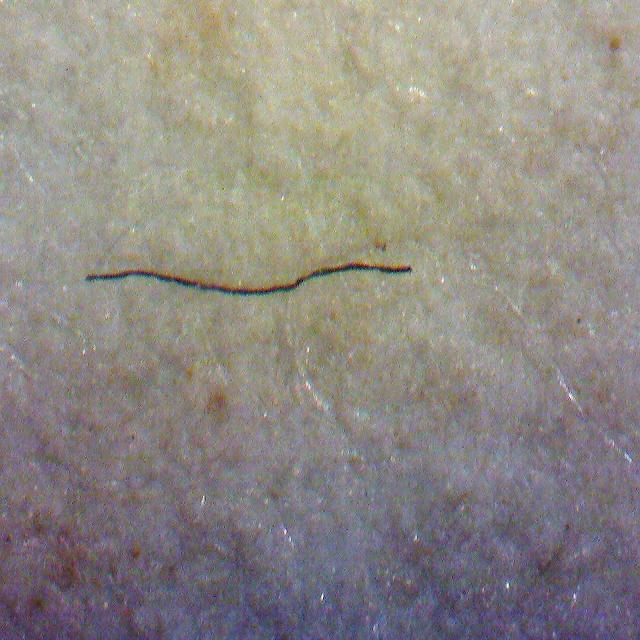microplastic: (86, 263, 411, 296)
